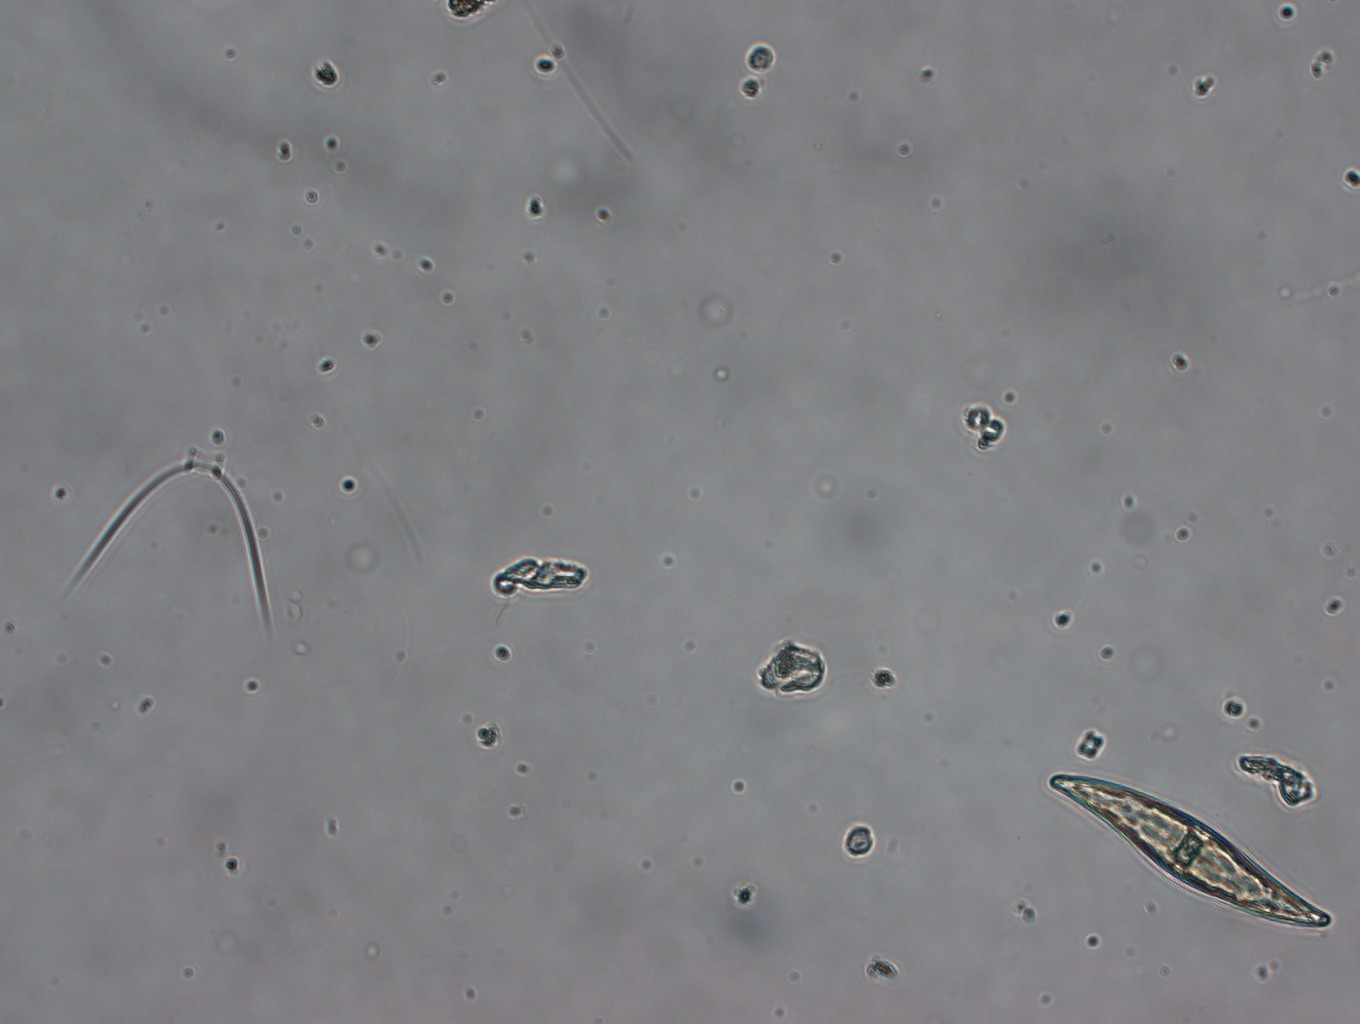chaetoceros: (62, 433, 284, 628)
pleurosigma pelagicum: (1046, 765, 1337, 931)
